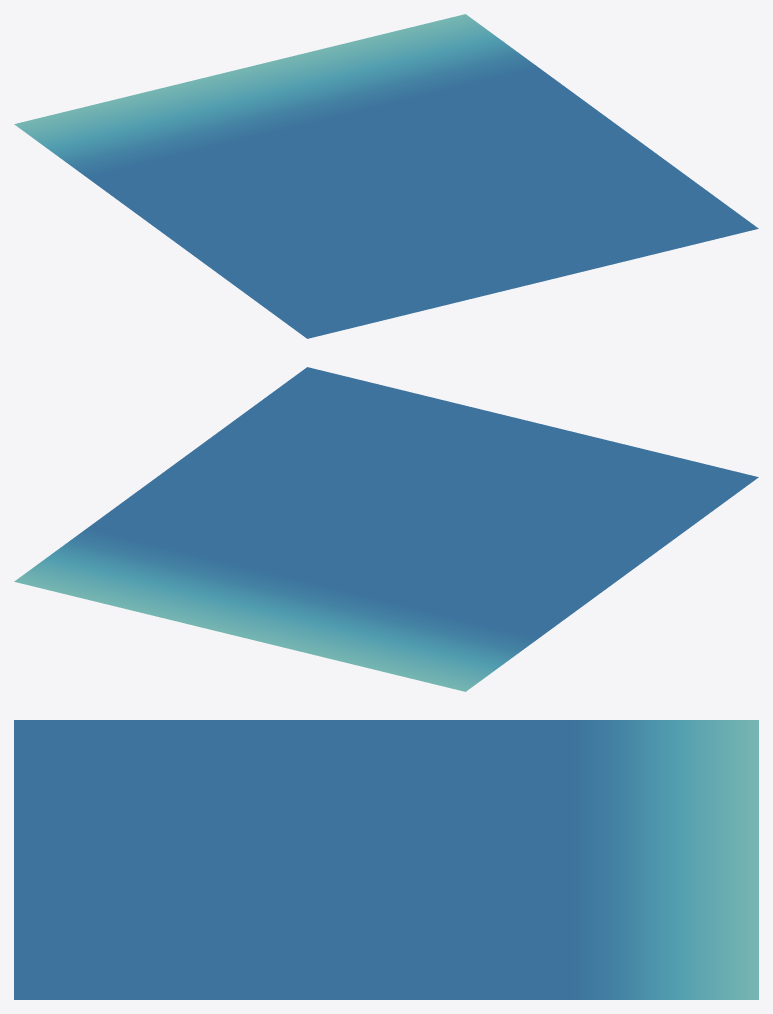
File: ocean_plane.glb
The picture shows the model from 3 angles, top to bottom: view 1: azimuth 30°, elevation 25°; view 2: azimuth 150°, elevation 25°; view 3: azimuth 270°, elevation 25°; orthographic projection. The views are drawn at different scales.
Visible parts, largest first — view 1: ocean; view 2: ocean; view 3: ocean.
Boxes of the visible parts, box(x1,y1,x2,y2) form: ocean: box(14, 14, 758, 338); ocean: box(14, 367, 758, 691); ocean: box(14, 720, 758, 999).
Size of the model in its own units: 160 by 0 by 180.
